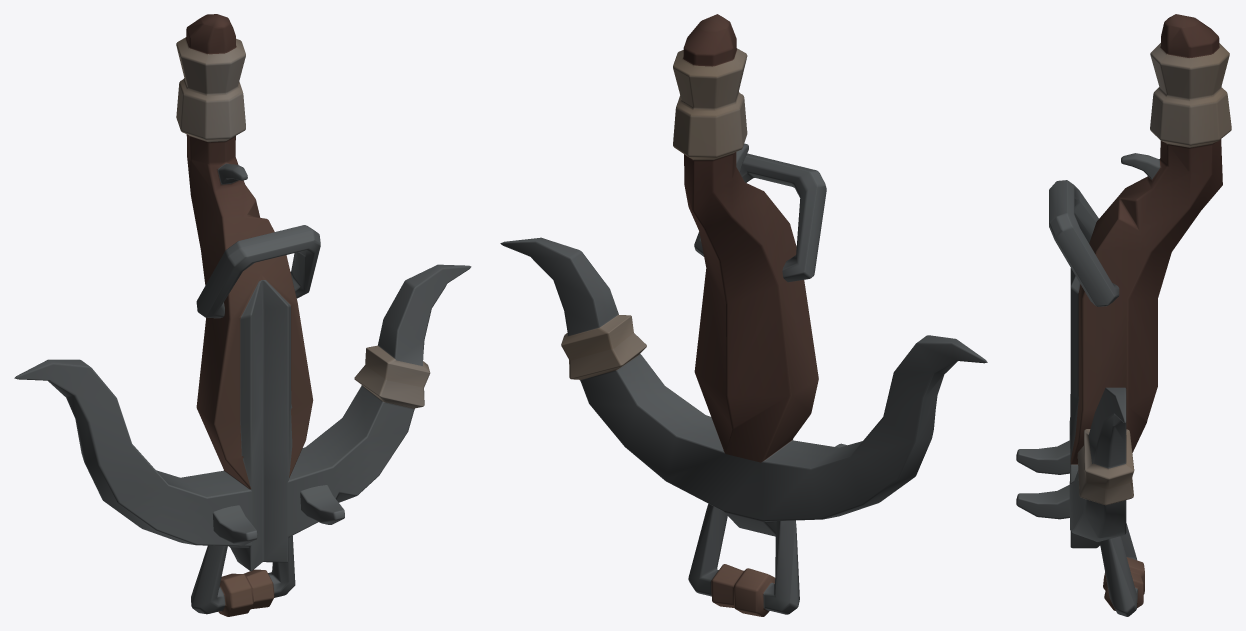
The model's file is crossbow_2.glb.
3 renders of one model, left to right at view 1: azimuth 30°, elevation 25°; view 2: azimuth 150°, elevation 25°; view 3: azimuth 270°, elevation 25°, orthographic. The views are drawn at different scales.
Visible parts, largest first — view 1: crossbow_2; view 2: crossbow_2; view 3: crossbow_2.
Part boxes in pixels (x1,y1,x2,y2): crossbow_2: [14, 14, 471, 616]; crossbow_2: [500, 14, 987, 616]; crossbow_2: [1016, 14, 1231, 616].
Size of the model in its own units: 0.7038 by 0.85 by 0.2816.
Materials: 1 (1 with a texture image).
